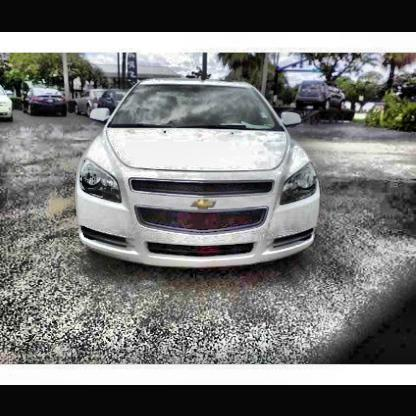Chevrolet Malibu Hybrid Sedan 2010: (75, 78, 322, 273)
